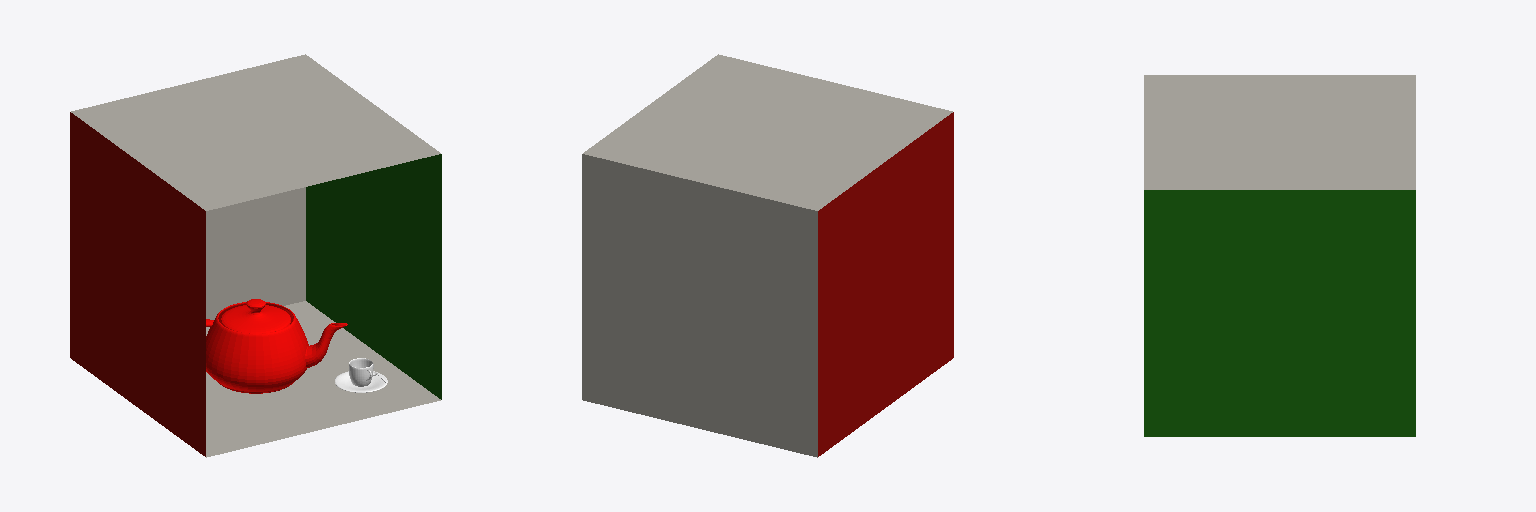
File: TeaSet.obj
3 renders of one model, left to right at view 1: azimuth 30°, elevation 25°; view 2: azimuth 150°, elevation 25°; view 3: azimuth 270°, elevation 25°, orthographic.
Visible parts, largest first — view 1: CornellBox-Empty, teapot, teacup; view 2: CornellBox-Empty; view 3: CornellBox-Empty.
Part boxes in pixels (left/top/right/bottom): CornellBox-Empty: left=70, top=54, right=441, bottom=457; teapot: left=206, top=299, right=347, bottom=393; teacup: left=335, top=358, right=387, bottom=392; CornellBox-Empty: left=582, top=54, right=953, bottom=457; CornellBox-Empty: left=1144, top=75, right=1415, bottom=436.
Size of the model in its own units: 10 by 10 by 10.